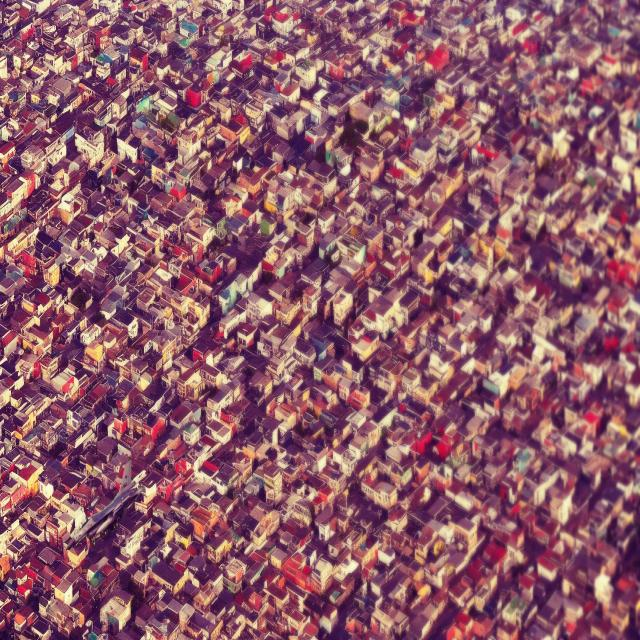airplane: (68, 460, 148, 548)
